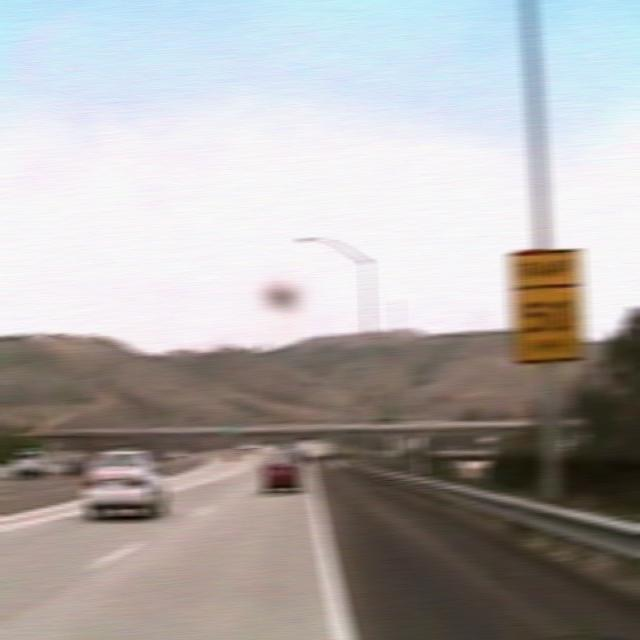speedLimit50: (504, 247, 587, 364)
